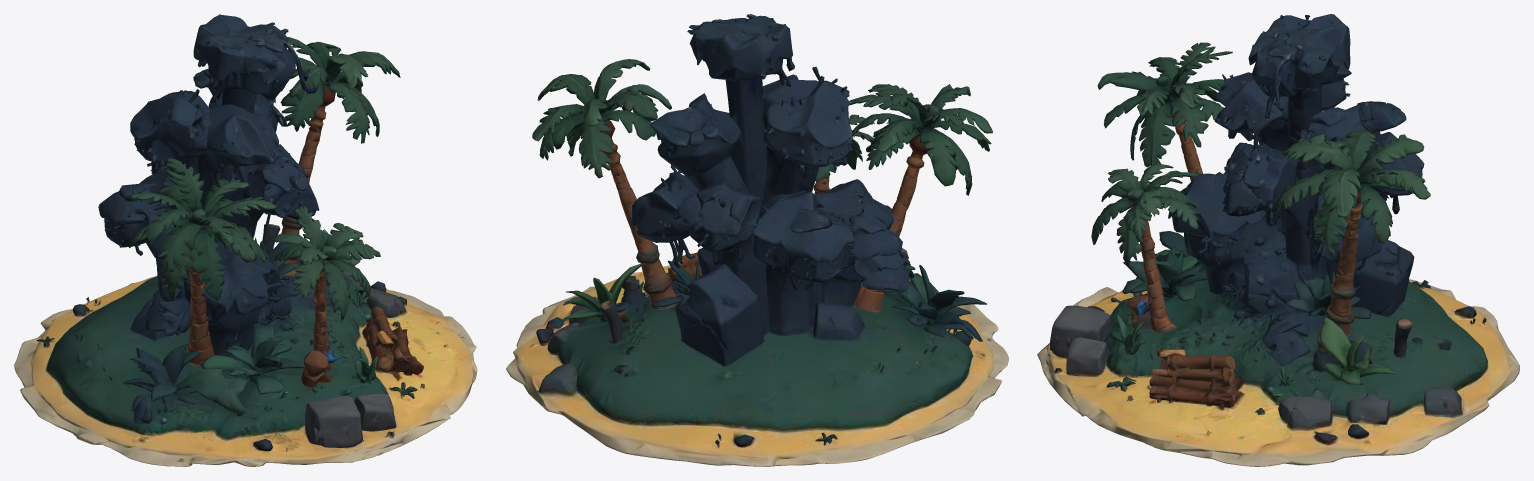
Rendered from isla-bosque.glb.
3 views of the same model, side by side, from view 1: azimuth 30°, elevation 25°; view 2: azimuth 150°, elevation 25°; view 3: azimuth 270°, elevation 25° (orthographic). The views are drawn at different scales.
Size of the model in its own units: 0.9784 by 0.7721 by 0.9762.
1 material, 1 textured.
